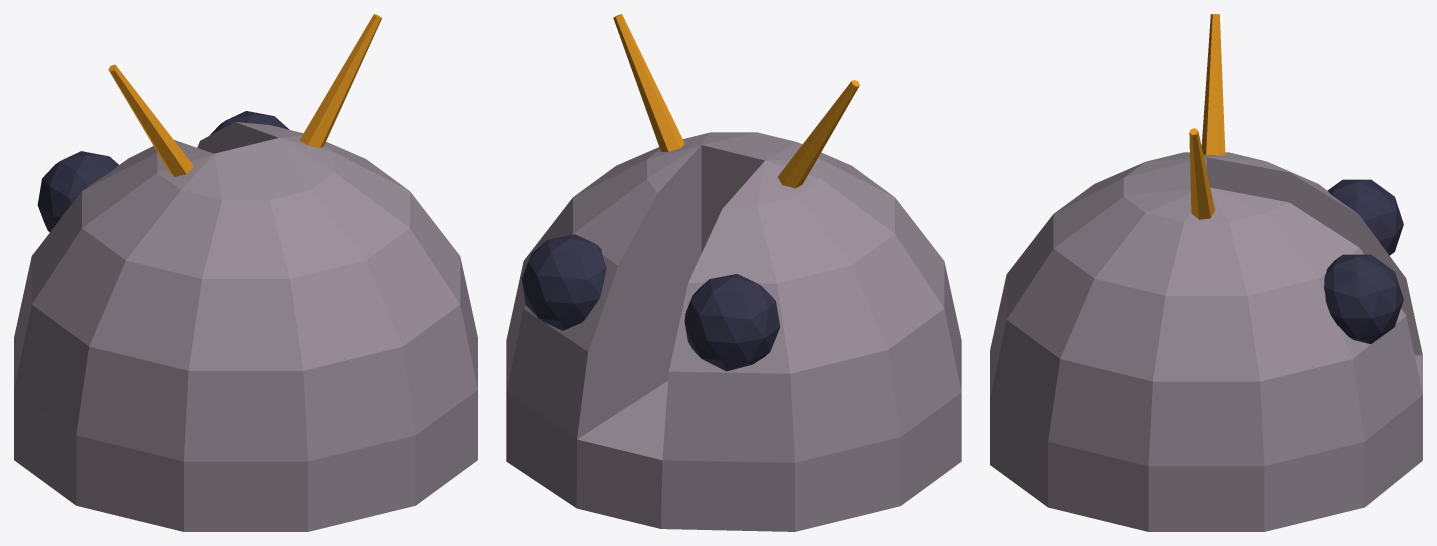
File: stationary_turret_top.glb
3 renders of one model, left to right at view 1: azimuth 30°, elevation 25°; view 2: azimuth 150°, elevation 25°; view 3: azimuth 270°, elevation 25°, orthographic. The views are drawn at different scales.
Visible parts, largest first — view 1: turret_top, camera_eye1, antenna2, antenna1, camera_eye2; view 2: turret_top, camera_eye1, camera_eye2, antenna2, antenna1; view 3: turret_top, camera_eye2, camera_eye1, antenna1, antenna2.
Boxes of the visible parts, box(x1,y1,x2,y2) form: turret_top: box(14, 122, 477, 531); camera_eye1: box(37, 151, 118, 232); antenna2: box(299, 14, 381, 147); antenna1: box(108, 64, 193, 176); camera_eye2: box(210, 111, 289, 135); turret_top: box(506, 132, 961, 531); camera_eye1: box(684, 274, 780, 371); camera_eye2: box(521, 234, 606, 330); antenna2: box(613, 14, 684, 151); antenna1: box(778, 80, 859, 188); turret_top: box(990, 152, 1422, 531); camera_eye2: box(1324, 254, 1403, 343); camera_eye1: box(1327, 179, 1403, 255); antenna1: box(1201, 14, 1225, 155); antenna2: box(1189, 128, 1214, 219).
Bounding box in the file's own units: 1.93 × 1.82 × 1.93.
